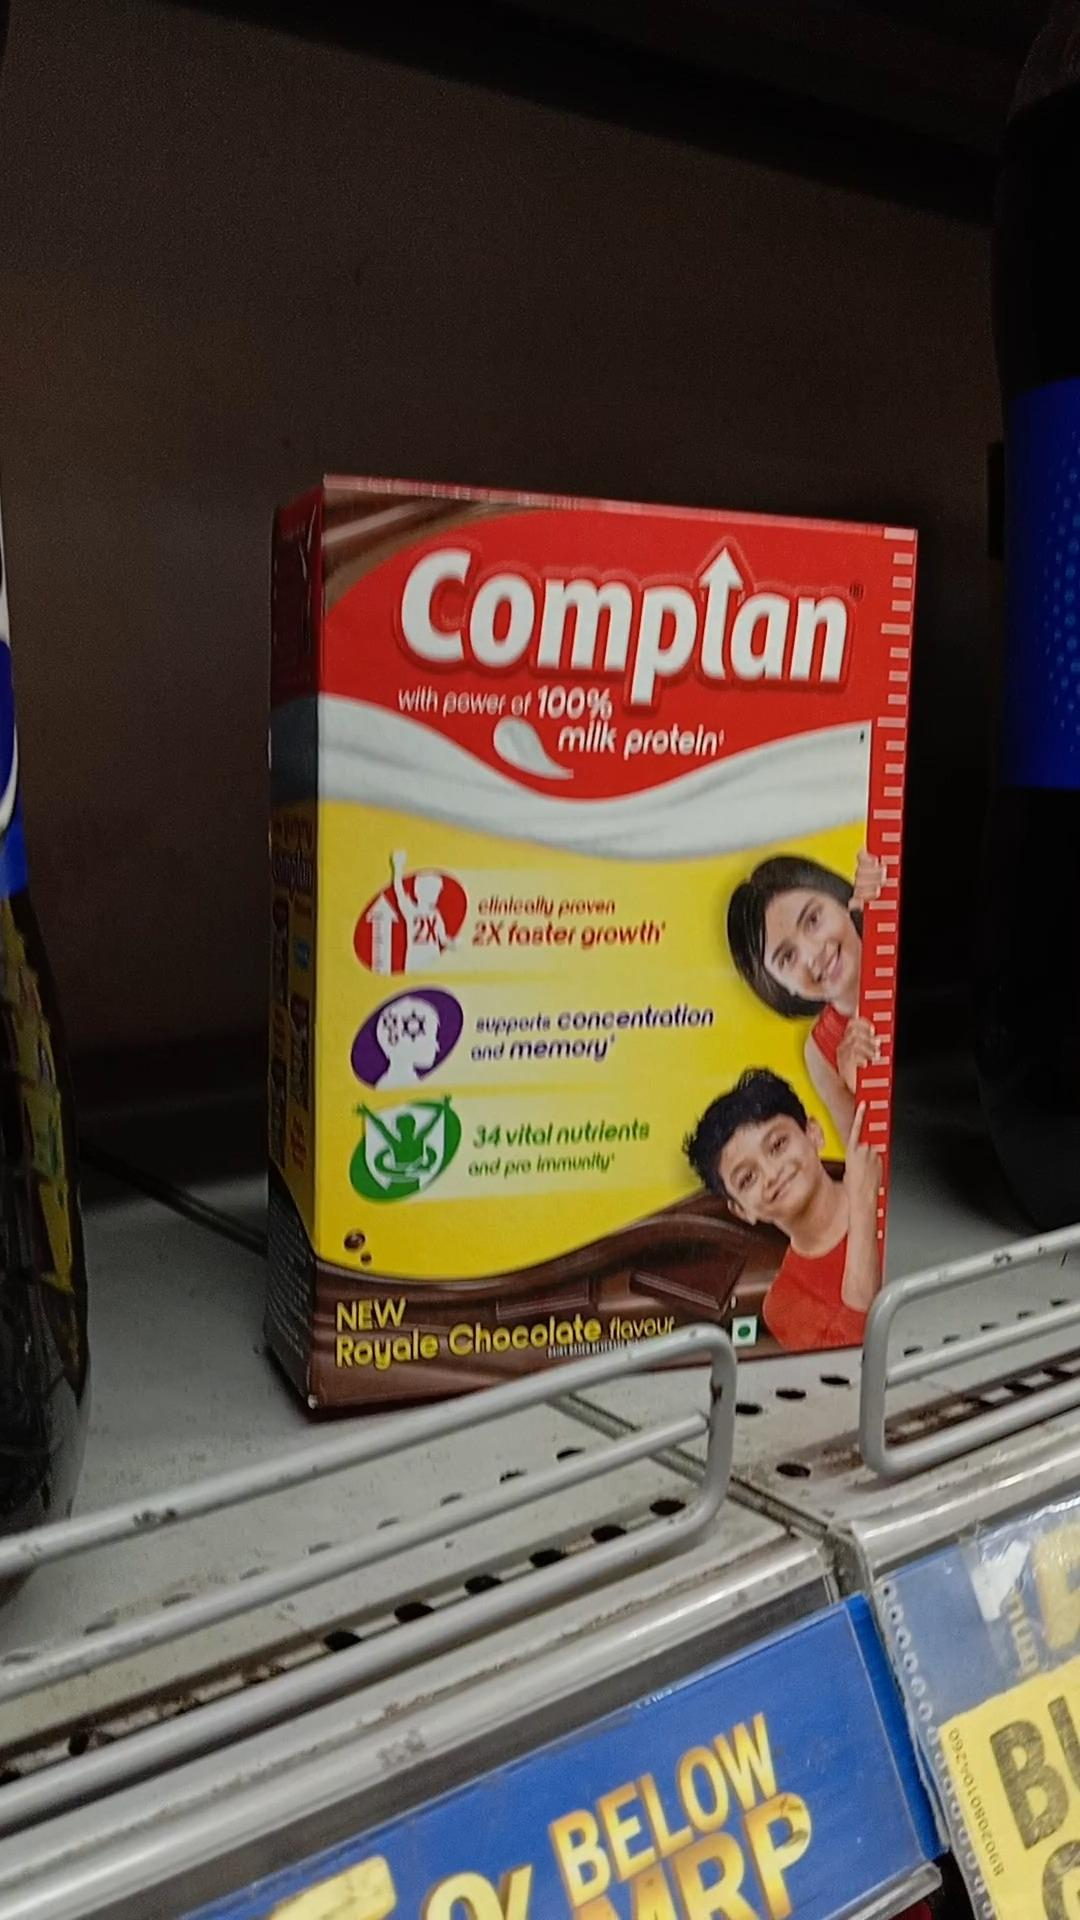COMPLAN_CHOCOLATE_200_GMS_PACK: (302, 495, 911, 1374)
